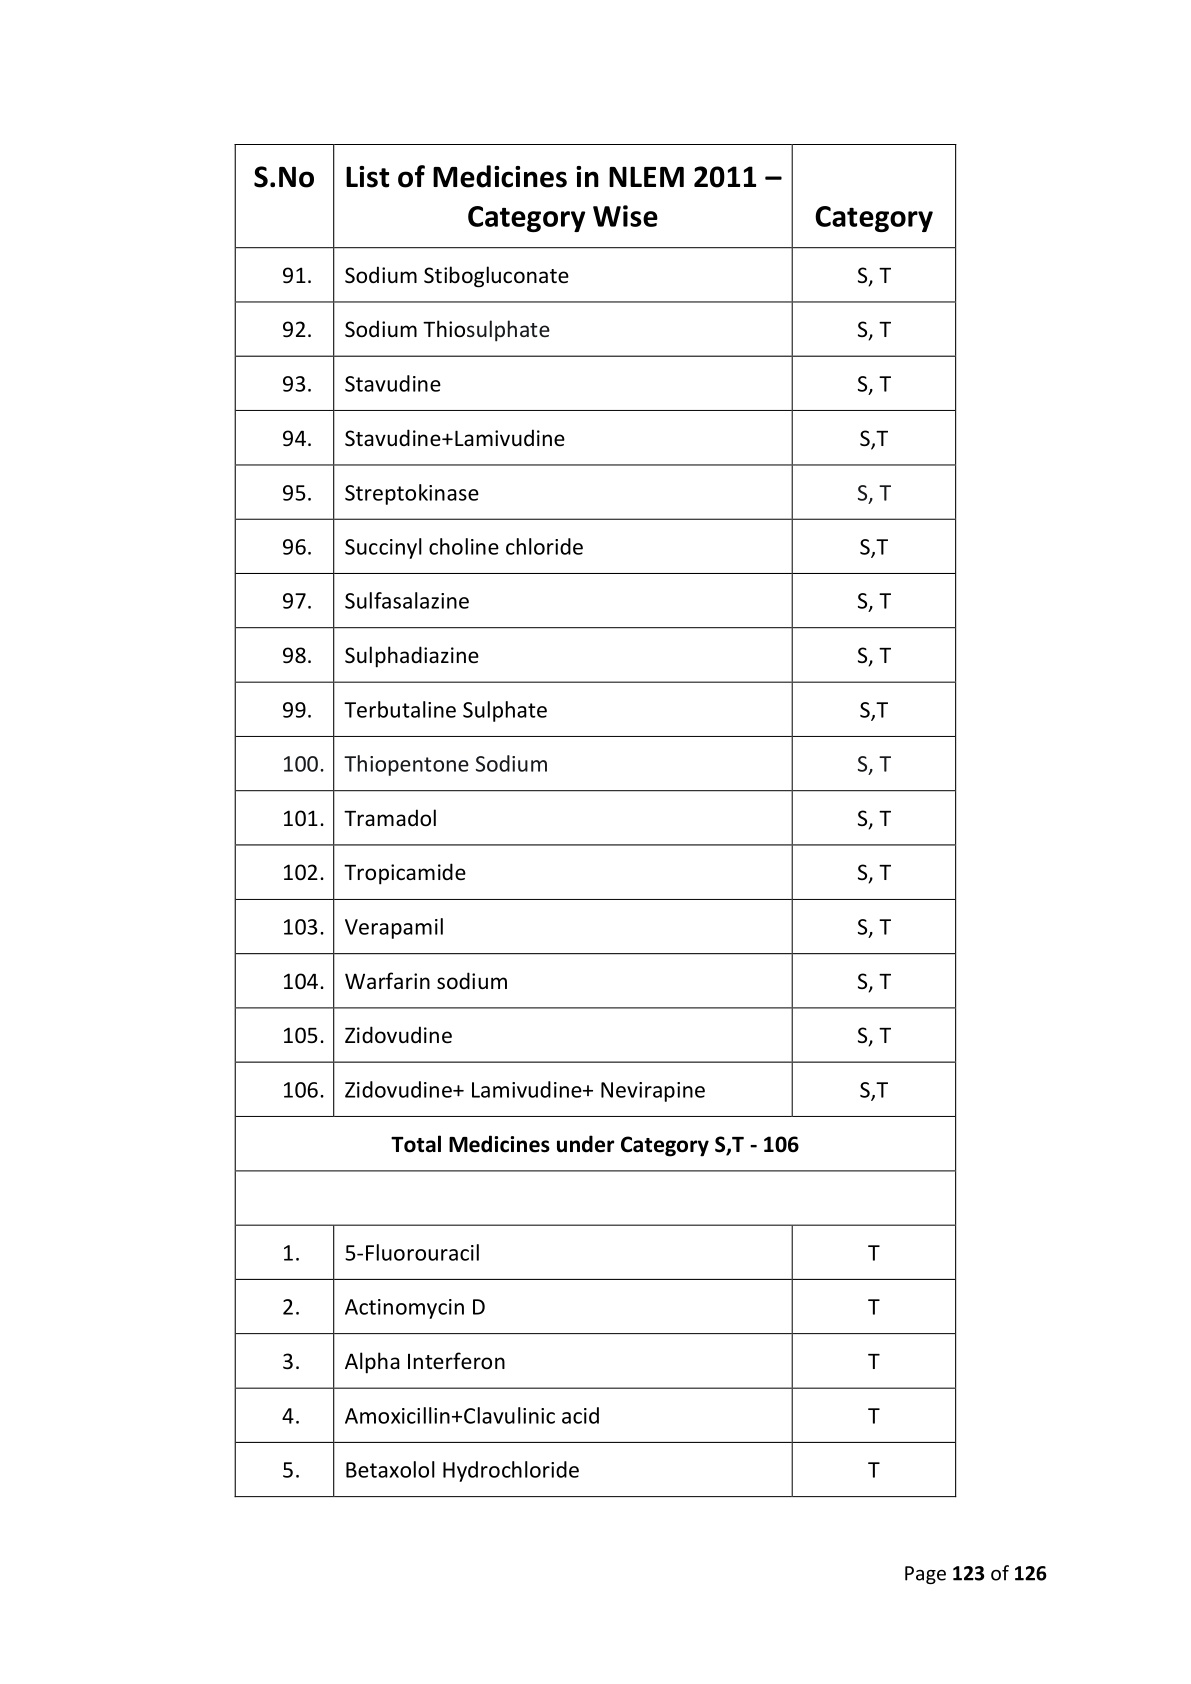merged_cells: (232, 140, 956, 1498)
